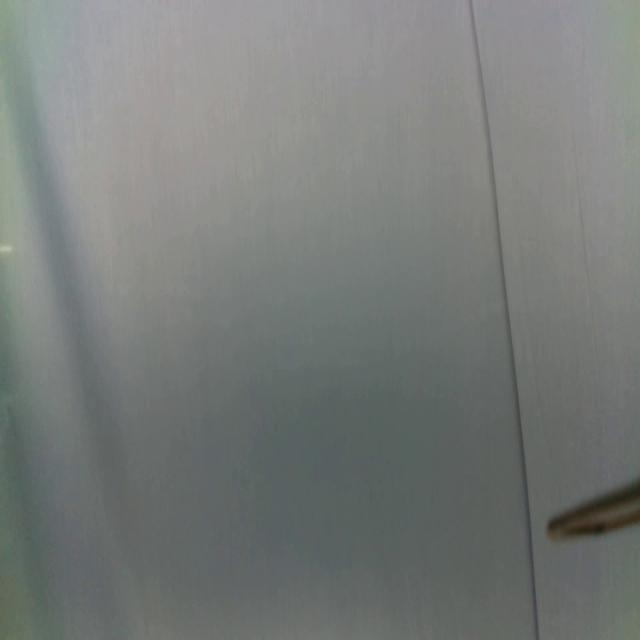crease: (468, 0, 541, 640)
